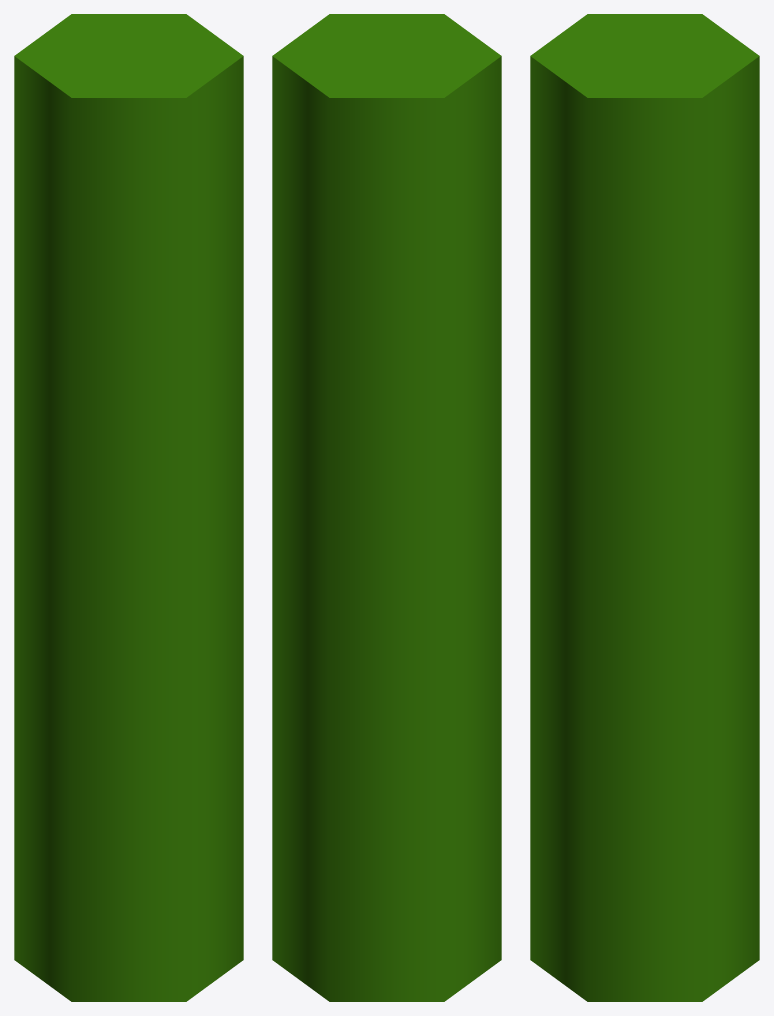
Rendered from catom2Dpicking.obj.
3 views of the same model, side by side, from view 1: azimuth 30°, elevation 25°; view 2: azimuth 150°, elevation 25°; view 3: azimuth 270°, elevation 25° (orthographic).
Visible parts, largest first — view 1: modelLP; view 2: modelLP; view 3: modelLP.
Boxes of the visible parts, x1=… form: modelLP: x1=14, y1=14, x2=243, y2=1001; modelLP: x1=272, y1=14, x2=501, y2=1001; modelLP: x1=530, y1=14, x2=759, y2=1001.
Bounding box in the file's own units: 0.996 × 5 × 1.15.
